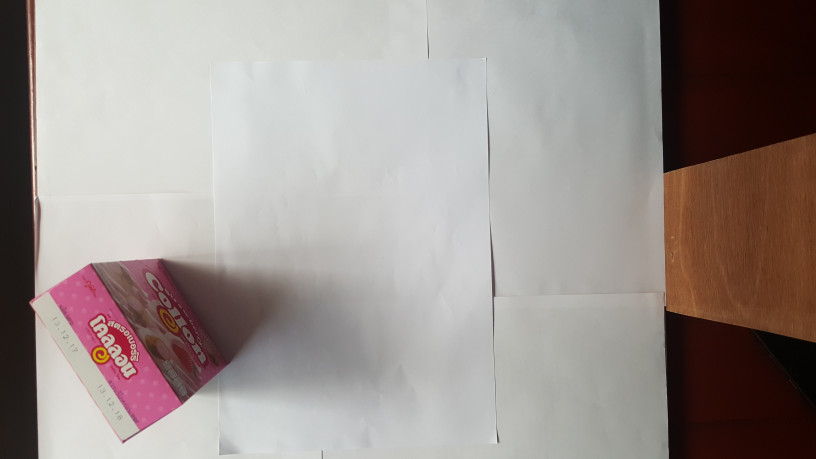collon-strawberry: (32, 258, 227, 439)
